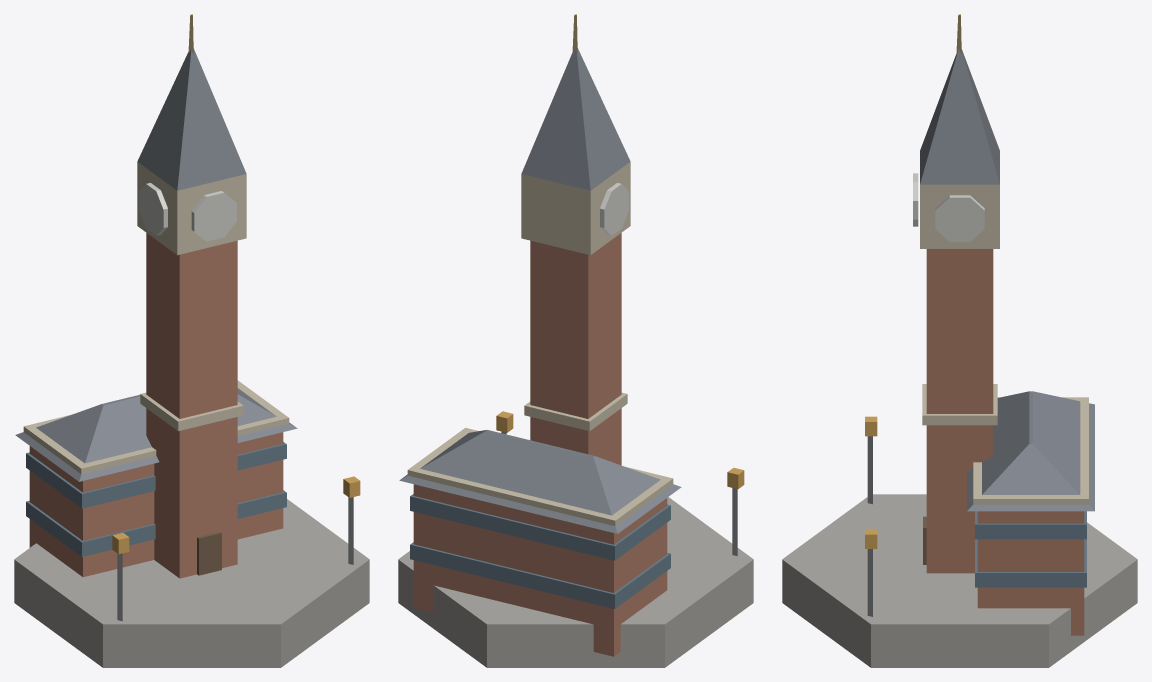
The model's file is center-industrial.glb.
3 renders of one model, left to right at view 1: azimuth 30°, elevation 25°; view 2: azimuth 150°, elevation 25°; view 3: azimuth 270°, elevation 25°, orthographic.
Parts seen in each view (by area): view 1: LOD0; view 2: LOD0; view 3: LOD0.
Part boxes in pixels (x1,y1,x2,y2): LOD0: (14, 14, 369, 667); LOD0: (398, 14, 753, 667); LOD0: (782, 14, 1137, 667).
Size of what is drawn, in the model's own units: 0.3464 by 0.73 by 0.4.
